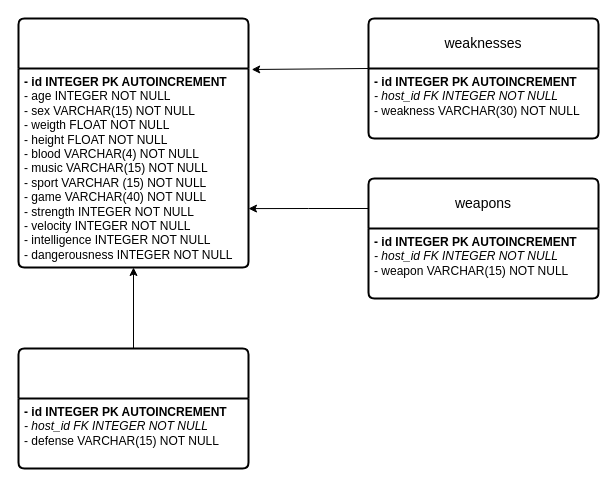
This 616x486 diagram has some shape labels left out. Here are the shapes that lost their labels. From the top down, the box of each, then its label:
(17, 17, 249, 268): hosts
(17, 347, 249, 469): defenses
